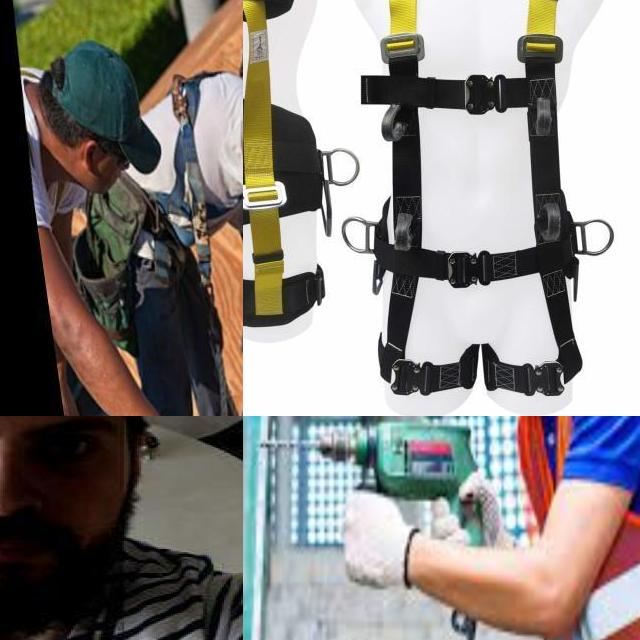Harness: (375, 0, 582, 397), (243, 0, 324, 328), (154, 72, 229, 288)
face_nomask: (0, 416, 126, 632)
person: (0, 416, 243, 640)
